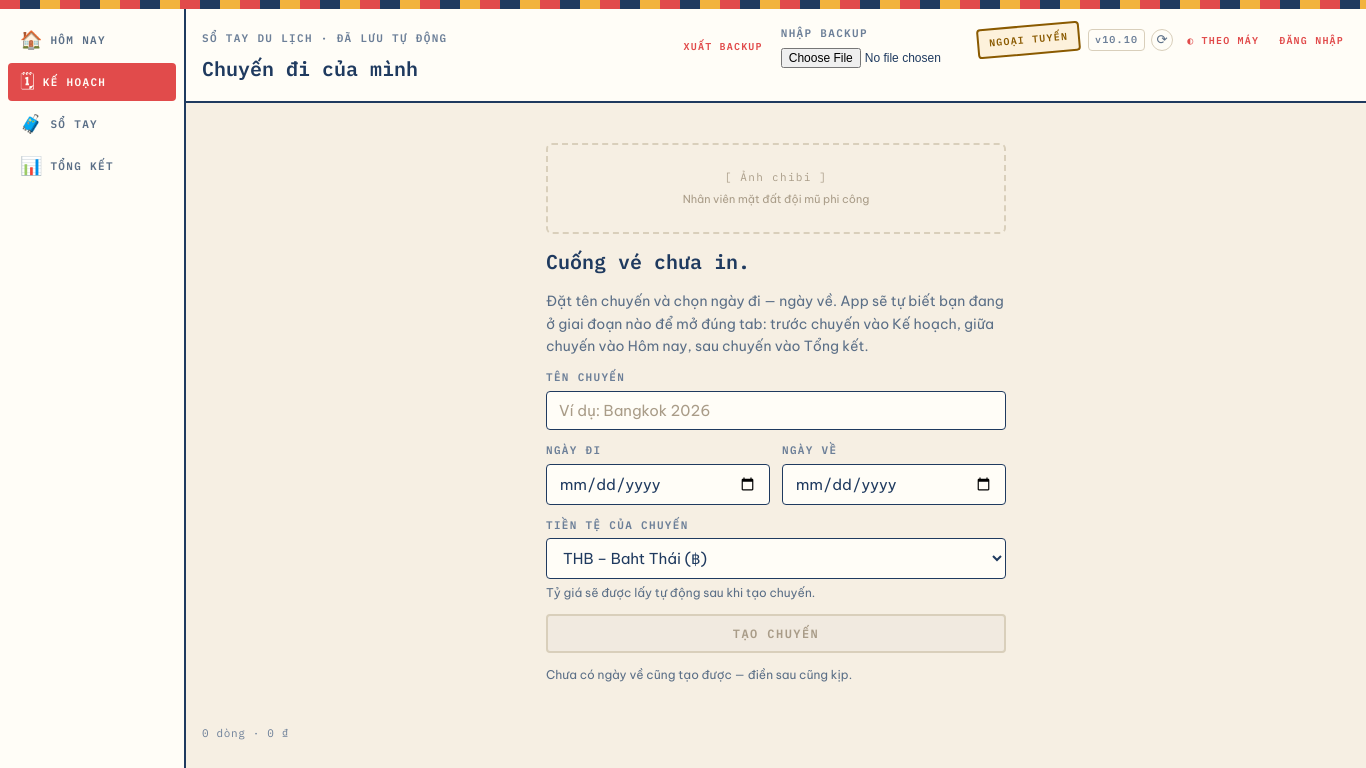
Test: App · nút chế độ sáng/tối ở header › xoay vòng Theo máy → Sáng → Tối → Theo máy, nhớ vào máy, không đụng sổ
Click the button "◐ Theo máy".
click(1223, 40)  # box x1=1181 y1=32 x2=1265 y2=48
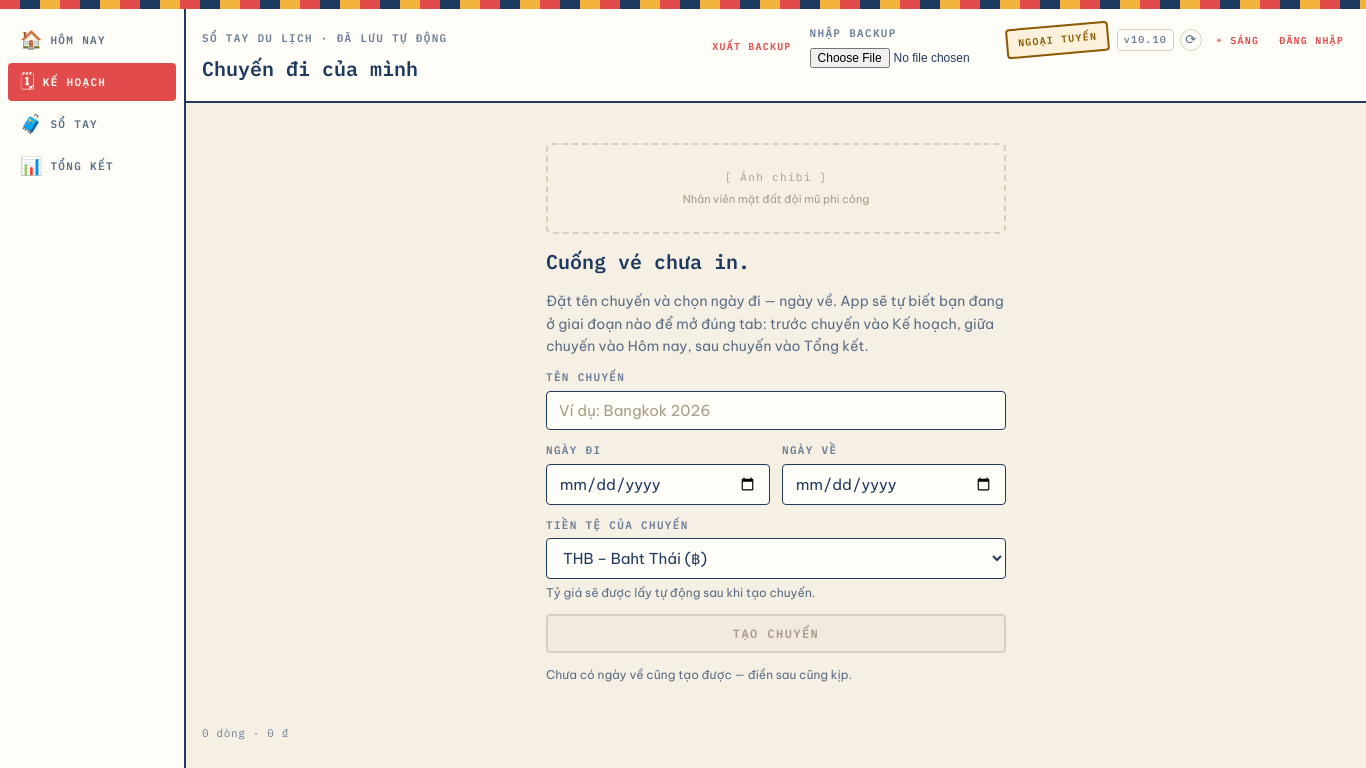
Expected: the button "☀ Sáng" is shown
Click the button "☀ Sáng".
click(1238, 40)  # box x1=1210 y1=32 x2=1265 y2=48
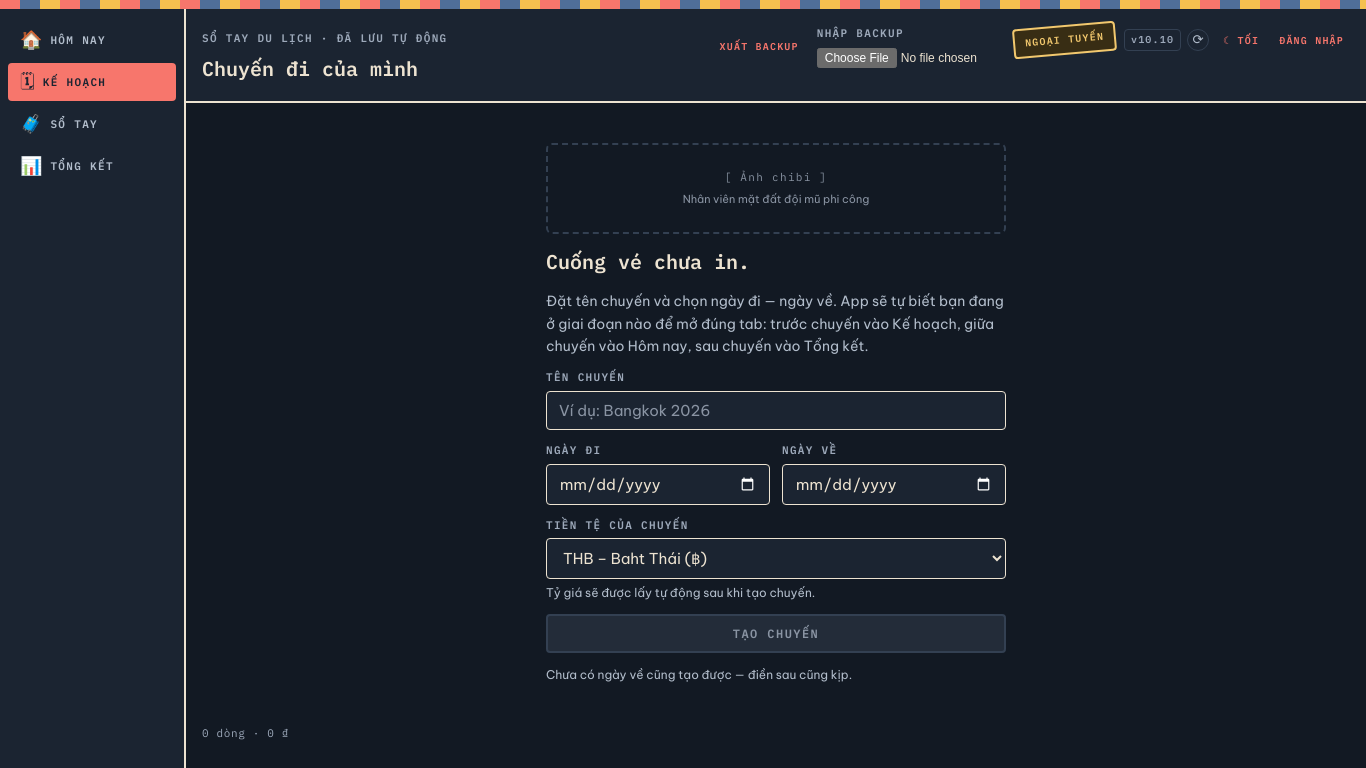
Expected: the button "☾ Tối" is shown
Click the button "☾ Tối".
click(1241, 40)  # box x1=1217 y1=32 x2=1265 y2=48
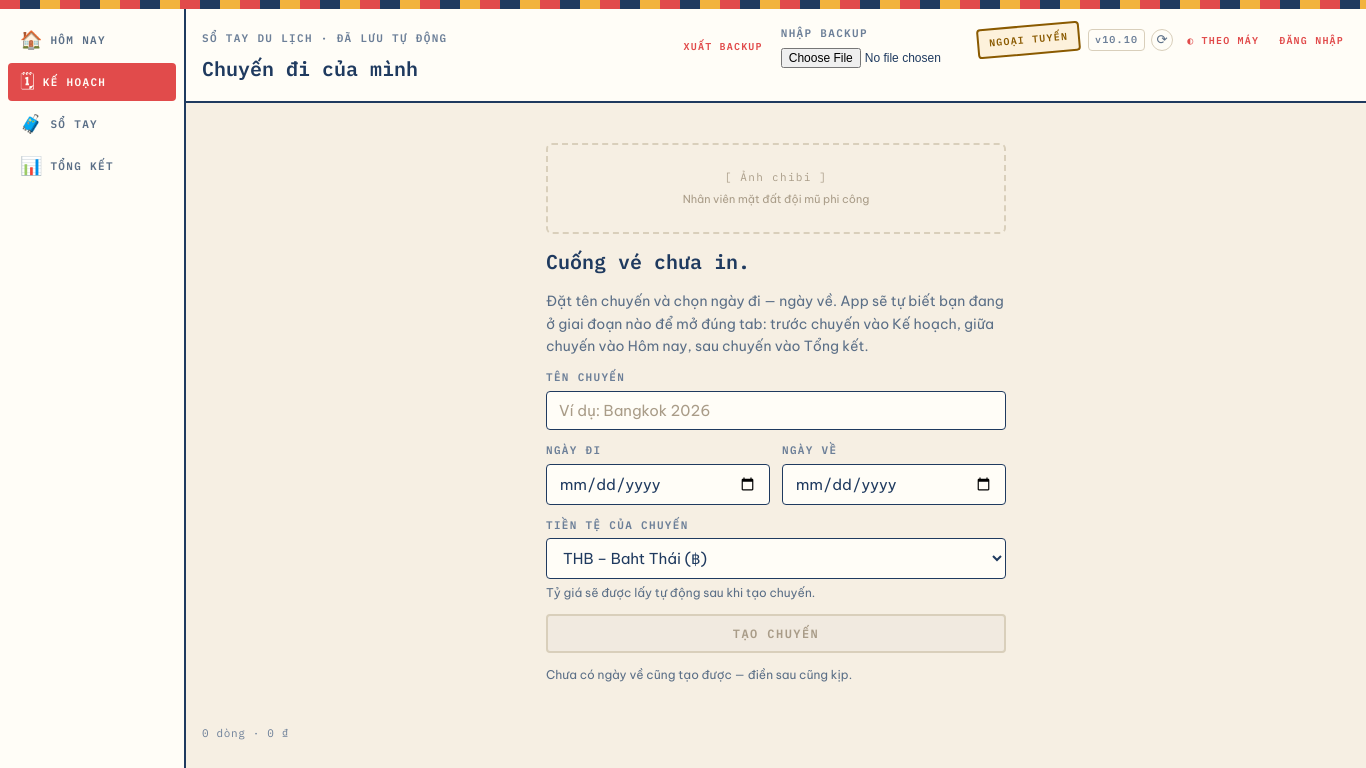
Expected: the button "◐ Theo máy" is shown, x1=1181 y1=32 x2=1265 y2=48
